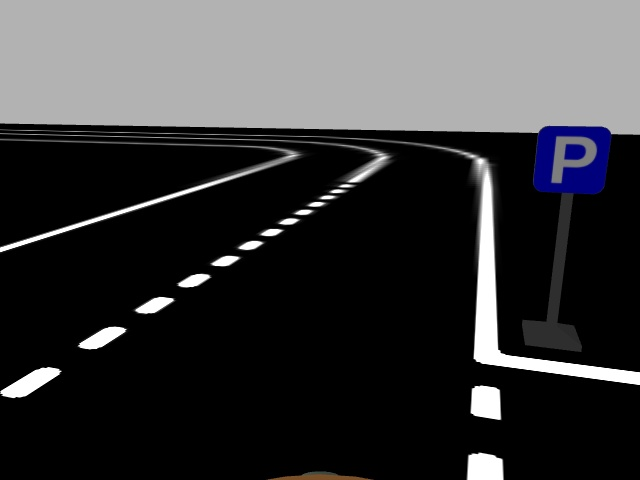parking: (534, 123, 611, 194)
